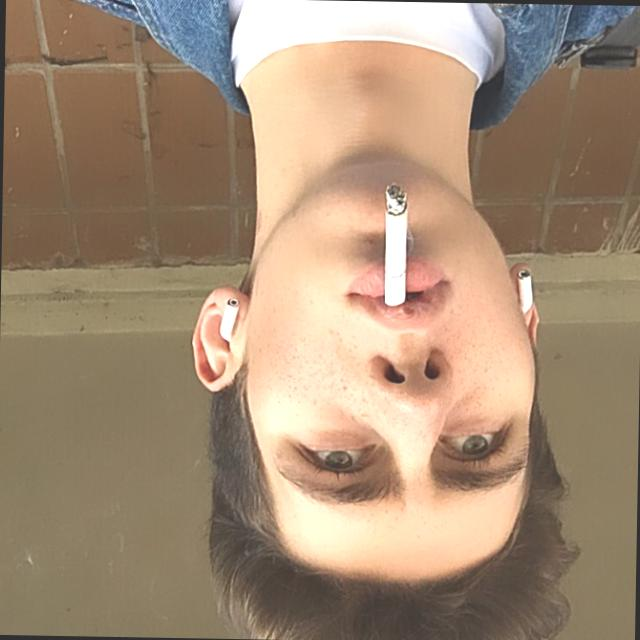cigarette: (378, 182, 412, 308)
